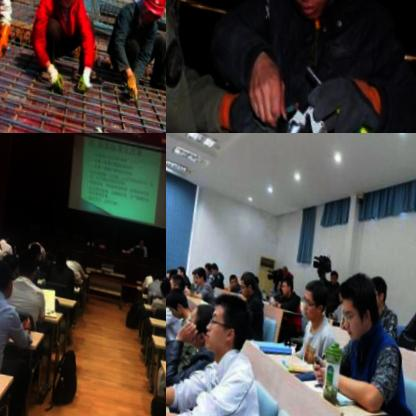head: (199, 287, 254, 357), (335, 264, 381, 338), (174, 298, 218, 354), (296, 271, 329, 320), (364, 267, 389, 305), (166, 285, 189, 319), (234, 263, 255, 298), (13, 243, 36, 274), (0, 244, 20, 273), (0, 254, 14, 295), (166, 267, 183, 294), (276, 269, 292, 295), (50, 236, 66, 260), (170, 258, 185, 280), (189, 262, 204, 284), (224, 267, 238, 287), (155, 267, 166, 291), (26, 235, 40, 253), (276, 257, 290, 275), (326, 261, 338, 280), (197, 257, 210, 274), (271, 269, 282, 289), (206, 255, 218, 270), (134, 226, 147, 239), (66, 244, 77, 259), (0, 220, 8, 239), (149, 260, 159, 273)
helmet: (133, 0, 166, 23)
